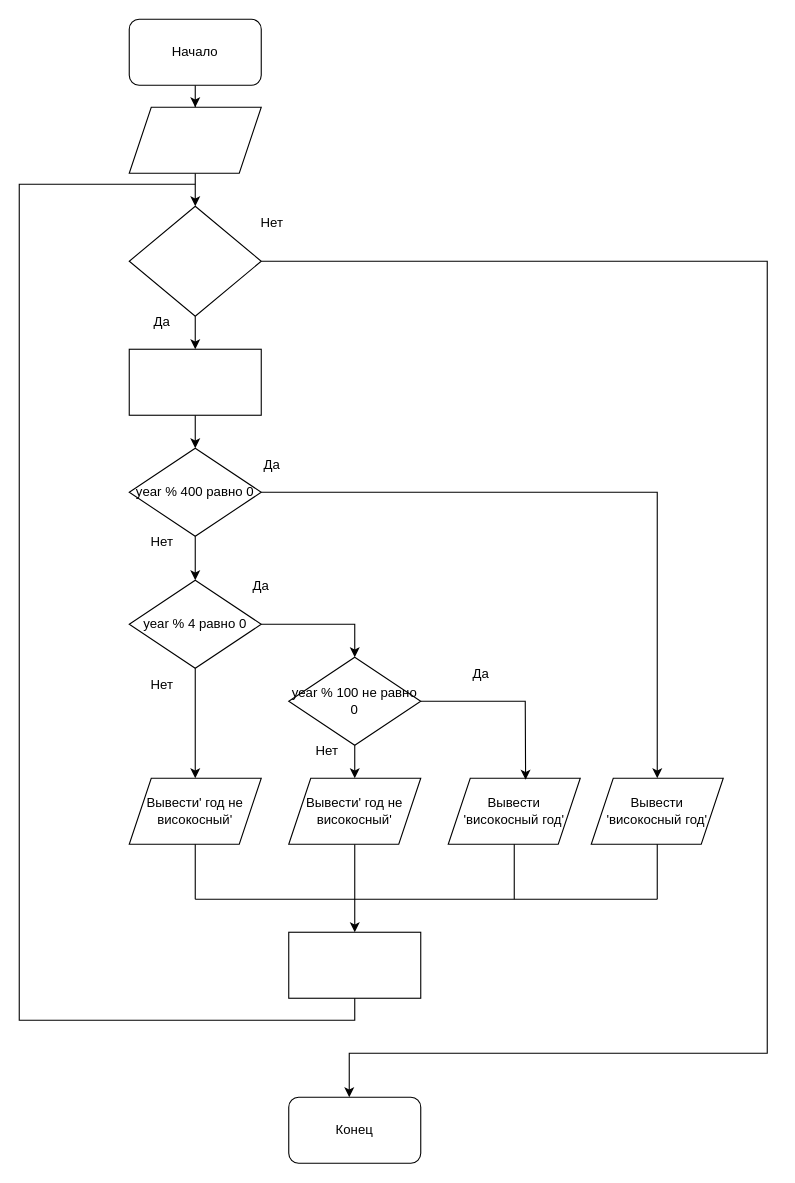
Image size: 795x1183. Some labels were removed from this diagram. Here are the shapes that lost their labels. From the top down, the centre of each, then its label:
the point at 194,139: Ввести массив years = []
the point at 194,260: i < len(years)
the point at 194,381: year = years[i]
the point at 354,964: i = i + 1
